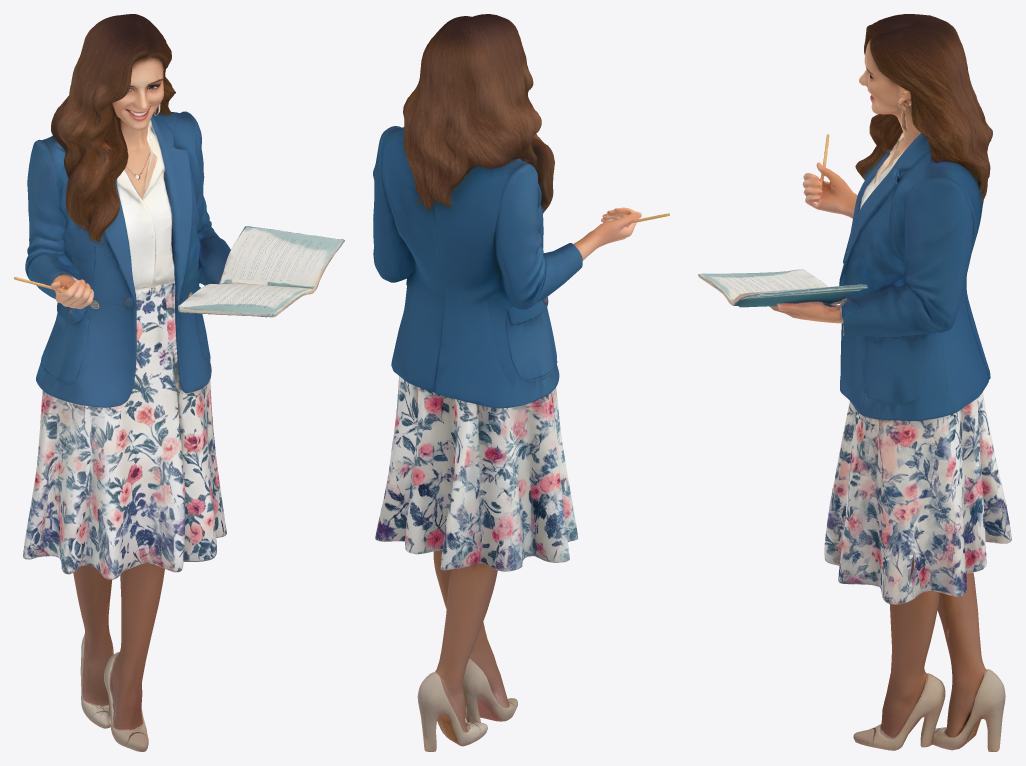
Rendered from teacher.glb.
The picture shows the model from 3 angles, left to right: view 1: azimuth 30°, elevation 25°; view 2: azimuth 150°, elevation 25°; view 3: azimuth 270°, elevation 25°; orthographic projection. The views are drawn at different scales.
Bounding box in the file's own units: 0.8351 × 1.9 × 0.7404.
1 material, 1 textured.
